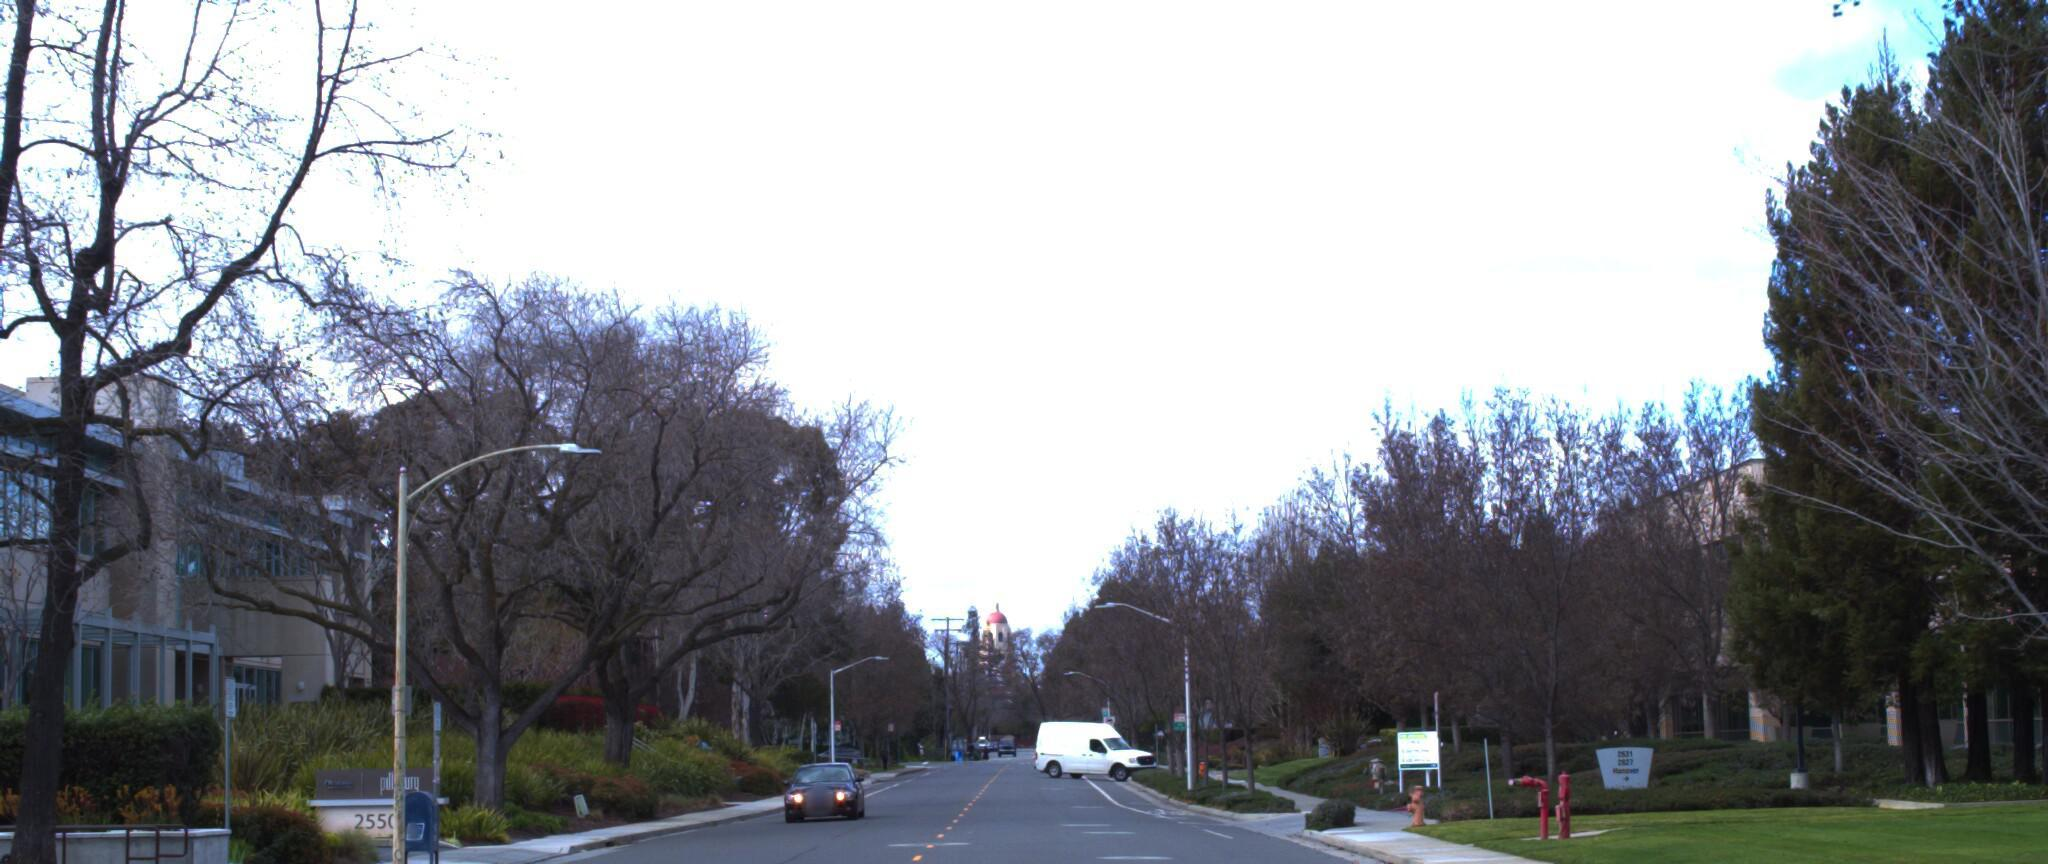car: (769, 761, 857, 820)
